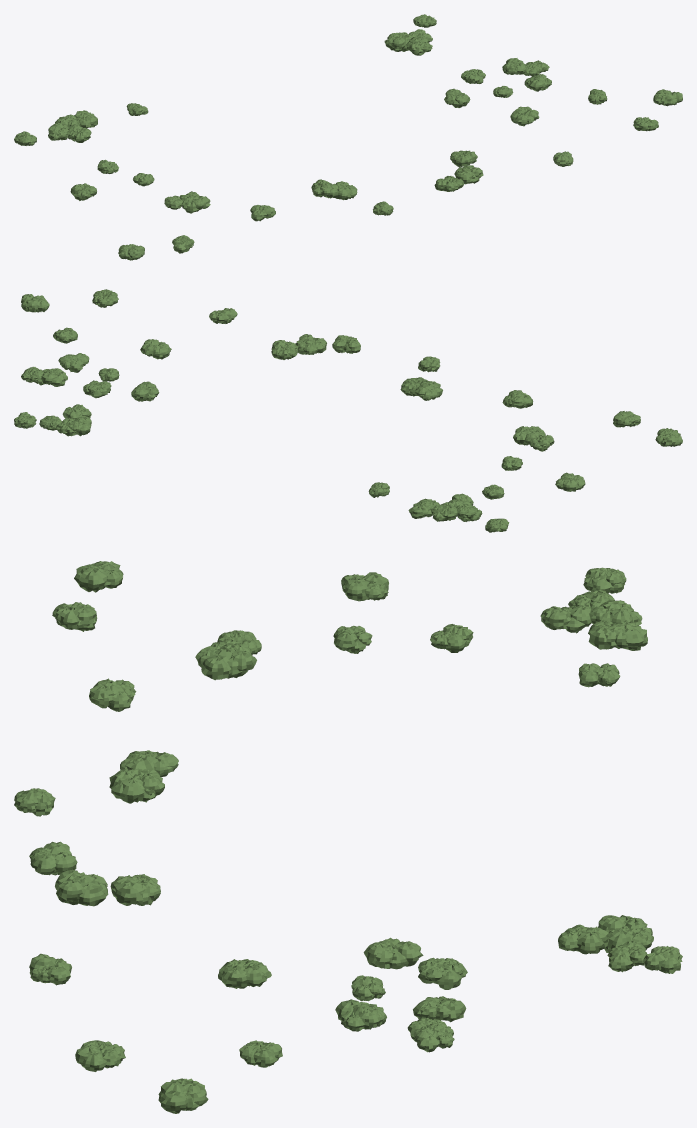
Rendered from E6-6_Arvores_copas.fbx.
3 views of the same model, one above another, from view 1: azimuth 30°, elevation 25°; view 2: azimuth 150°, elevation 25°; view 3: azimuth 270°, elevation 25° (orthographic). The views are drawn at different scales.
Parts seen in each view (by area): view 1: E6-6_Arvores_copas; view 2: E6-6_Arvores_copas; view 3: E6-6_Arvores_copas.
Part boxes in pixels (x1,y1,x2,y2): E6-6_Arvores_copas: (14,14,682,260); E6-6_Arvores_copas: (14,289,682,532); E6-6_Arvores_copas: (14,561,682,1113).
Bounding box in the file's own units: 279 × 13.37 × 144.
